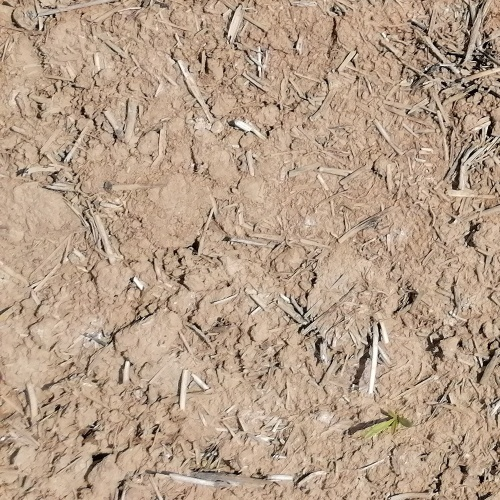beet: (364, 407, 411, 440)
